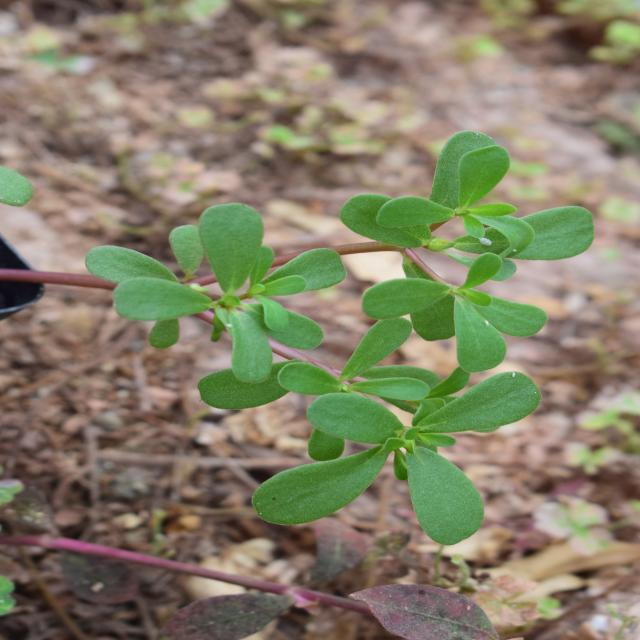purslane: (119, 33, 542, 535)
